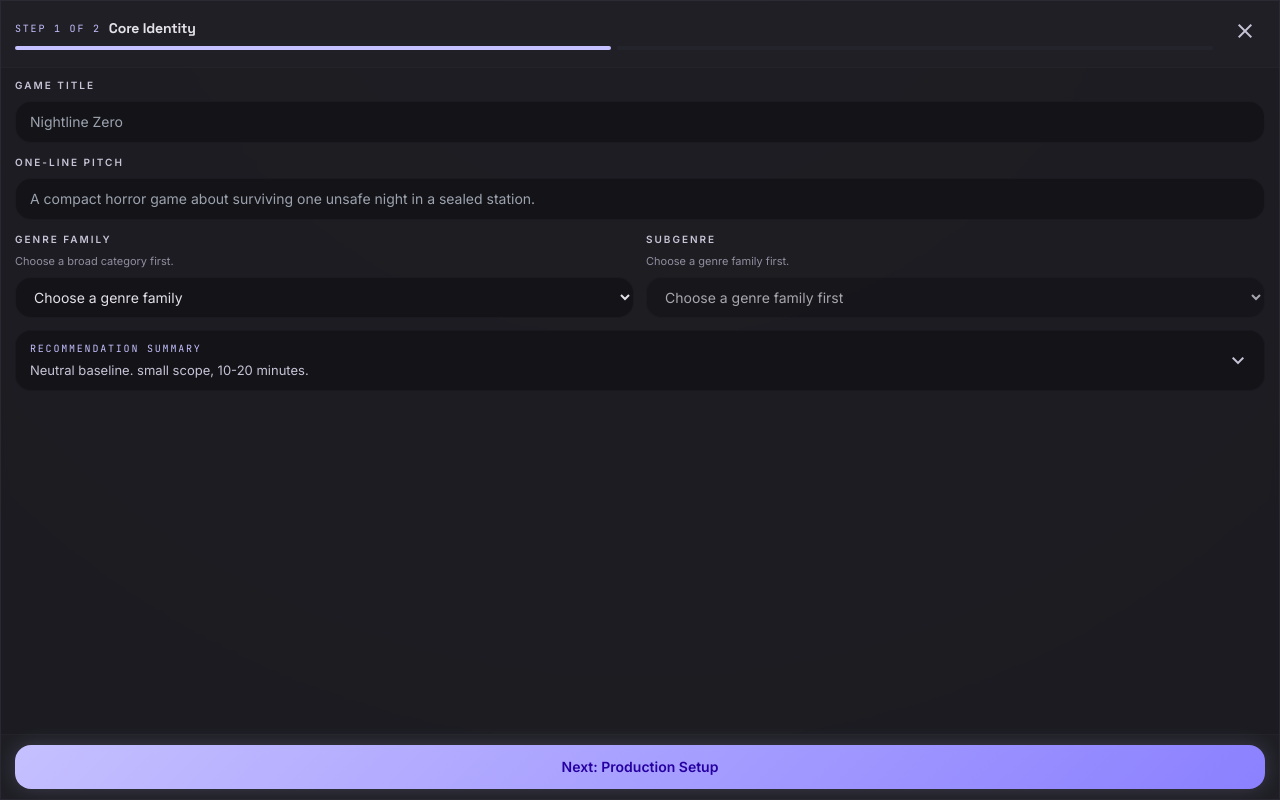
Test case: NewProjectModal › keeps custom genre details collapsed by default on mobile
Select "Other / Custom" in the dropdown labelled "Genre Family" at (324,298), box [15, 277, 634, 318]
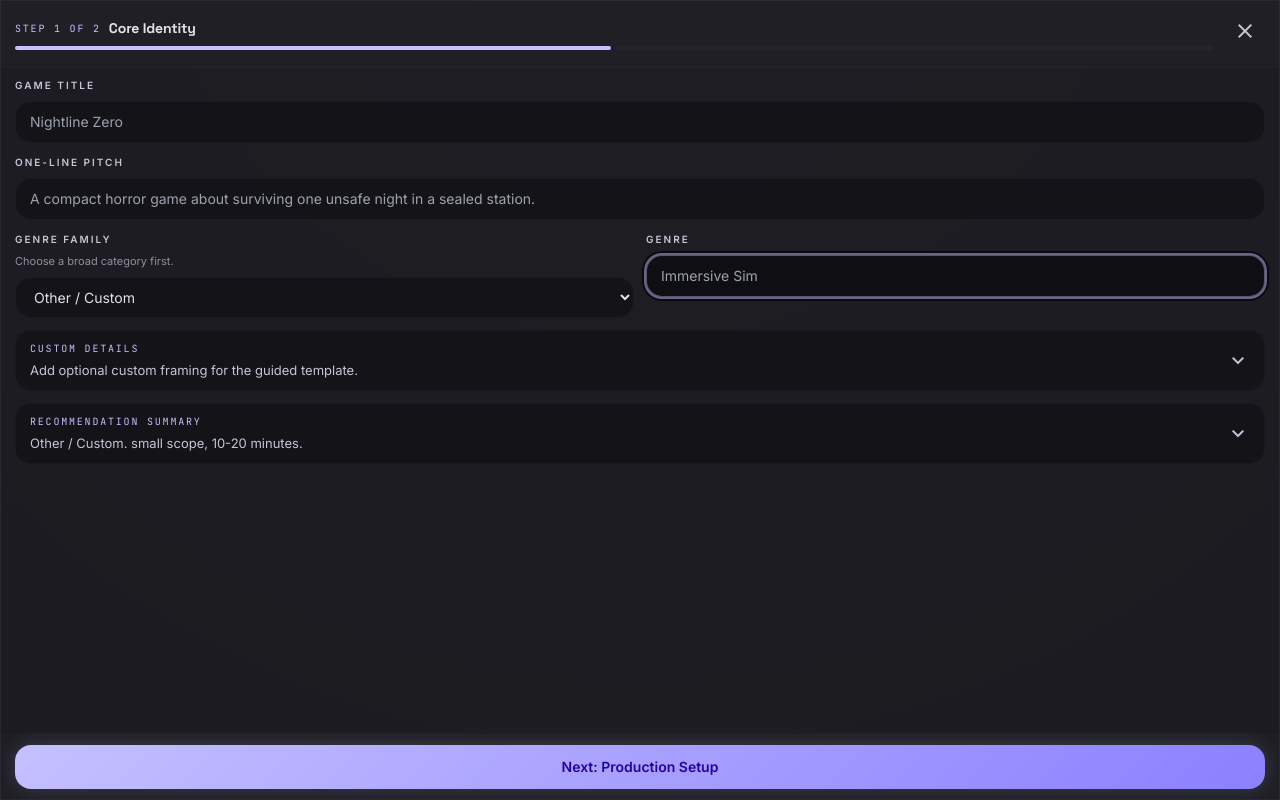
Expected: the field labelled "Genre" is shown, [646, 255, 1265, 297]
Expected: the button "Custom Details" is shown, [16, 331, 1264, 390]
Expected: the text labelled "Subgenre" is gone
